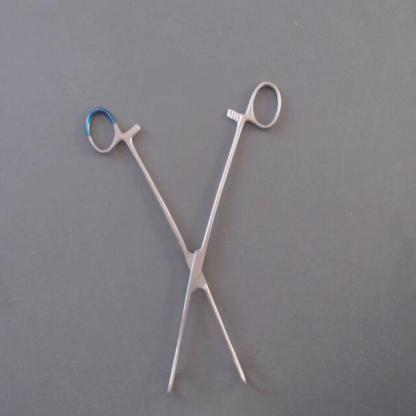Sponge Forceps: (77, 75, 287, 403)
